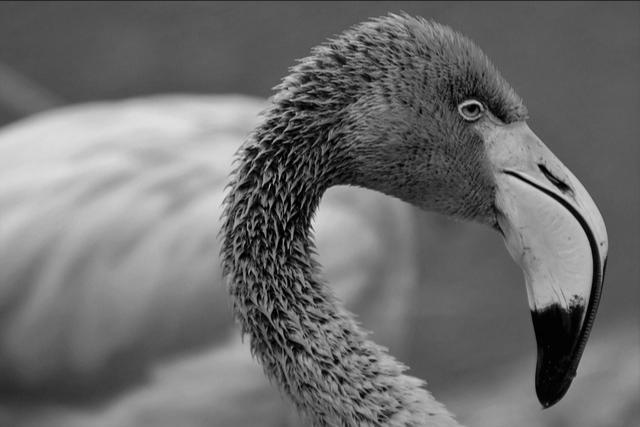Non_Gorille: (76, 1, 624, 427)
